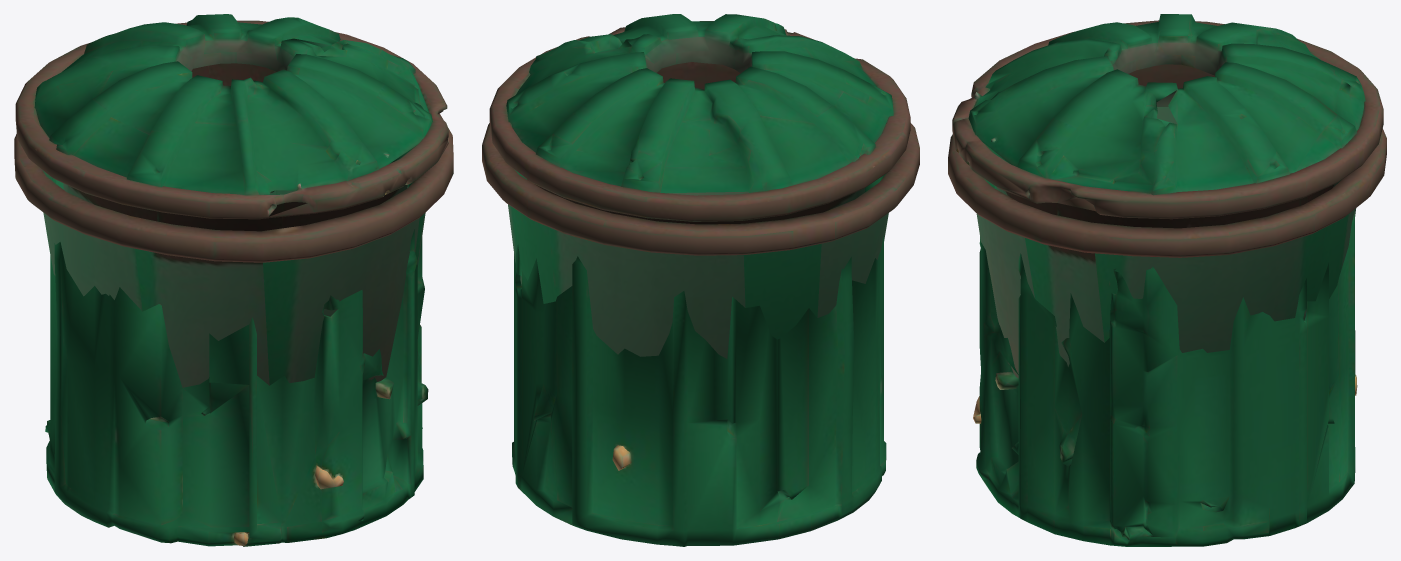
The model's file is Bank_TrashCan.glb.
3 views of the same model, side by side, from view 1: azimuth 30°, elevation 25°; view 2: azimuth 150°, elevation 25°; view 3: azimuth 270°, elevation 25° (orthographic).
Visible parts, largest first — view 1: tripo_node_0a4a5ae8-48a5-4a9a-aa1a-f300a67c8c4a; view 2: tripo_node_0a4a5ae8-48a5-4a9a-aa1a-f300a67c8c4a; view 3: tripo_node_0a4a5ae8-48a5-4a9a-aa1a-f300a67c8c4a.
Boxes of the visible parts, x1=… form: tripo_node_0a4a5ae8-48a5-4a9a-aa1a-f300a67c8c4a: x1=14, y1=14, x2=453, y2=546; tripo_node_0a4a5ae8-48a5-4a9a-aa1a-f300a67c8c4a: x1=482, y1=14, x2=919, y2=546; tripo_node_0a4a5ae8-48a5-4a9a-aa1a-f300a67c8c4a: x1=948, y1=14, x2=1386, y2=546.
Bounding box in the file's own units: 0.9599 × 1 × 0.9599.
Materials: 1 (1 with a texture image).
